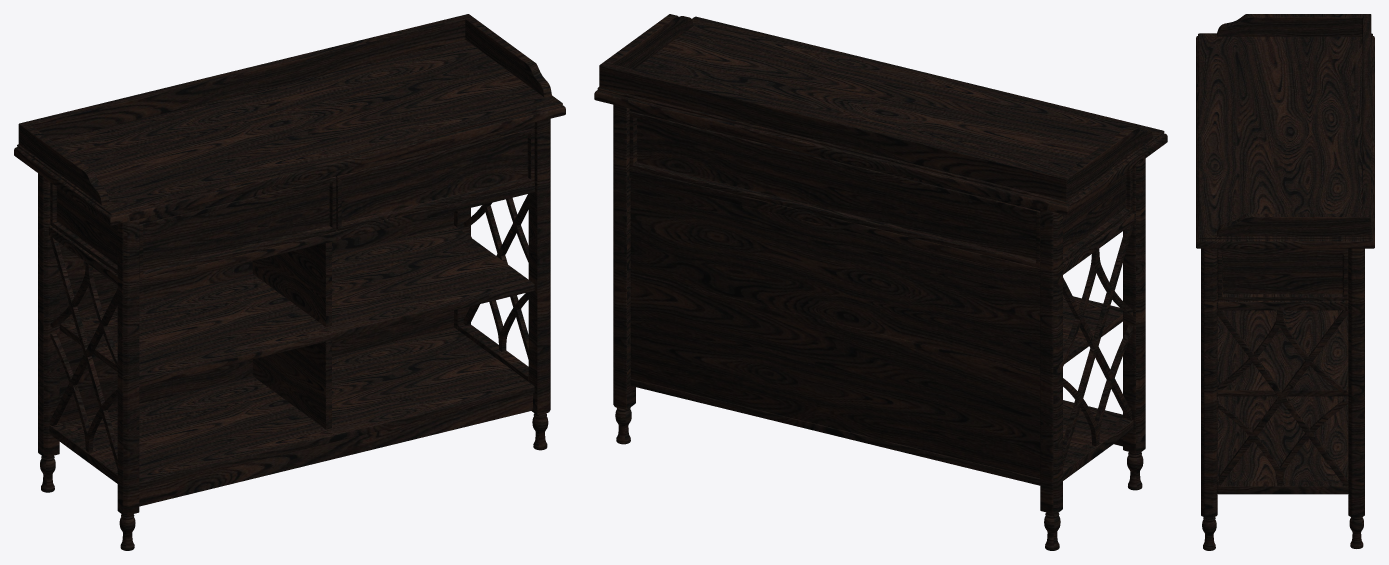
Rendered from Shelf_Vintage.glb.
3 renders of one model, left to right at view 1: azimuth 30°, elevation 25°; view 2: azimuth 150°, elevation 25°; view 3: azimuth 270°, elevation 25°, orthographic. The views are drawn at different scales.
Visible parts, largest first — view 1: mint0098; view 2: mint0098; view 3: mint0098.
Part boxes in pixels (bbox=[...]): mint0098: bbox=[14, 14, 565, 550]; mint0098: bbox=[594, 14, 1167, 550]; mint0098: bbox=[1196, 14, 1374, 550].
Bounding box in the file's own units: 1.02 × 0.786 × 0.3761.
1 material, 1 textured.
